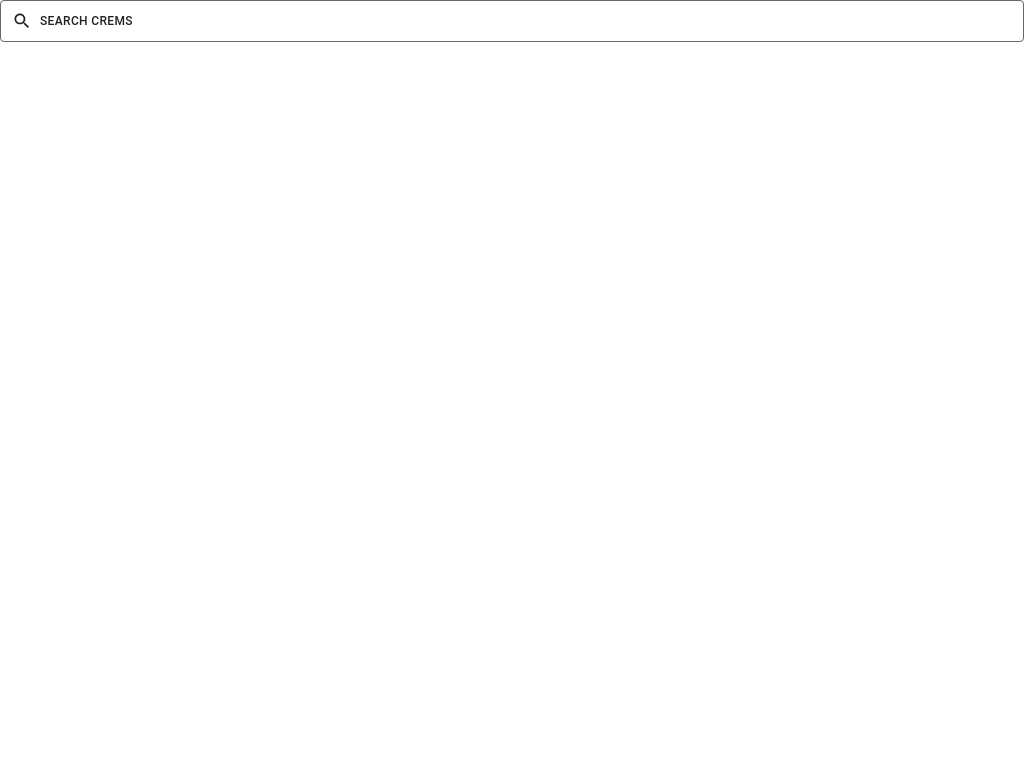
Scenario: shows permitted page shortcuts and hides administration shortcuts for rental officers
This screenshot has width=1024, height=768.
Click the button "Search CREMS".
click(86, 21)  # box left=0, top=0, right=1023, bottom=42
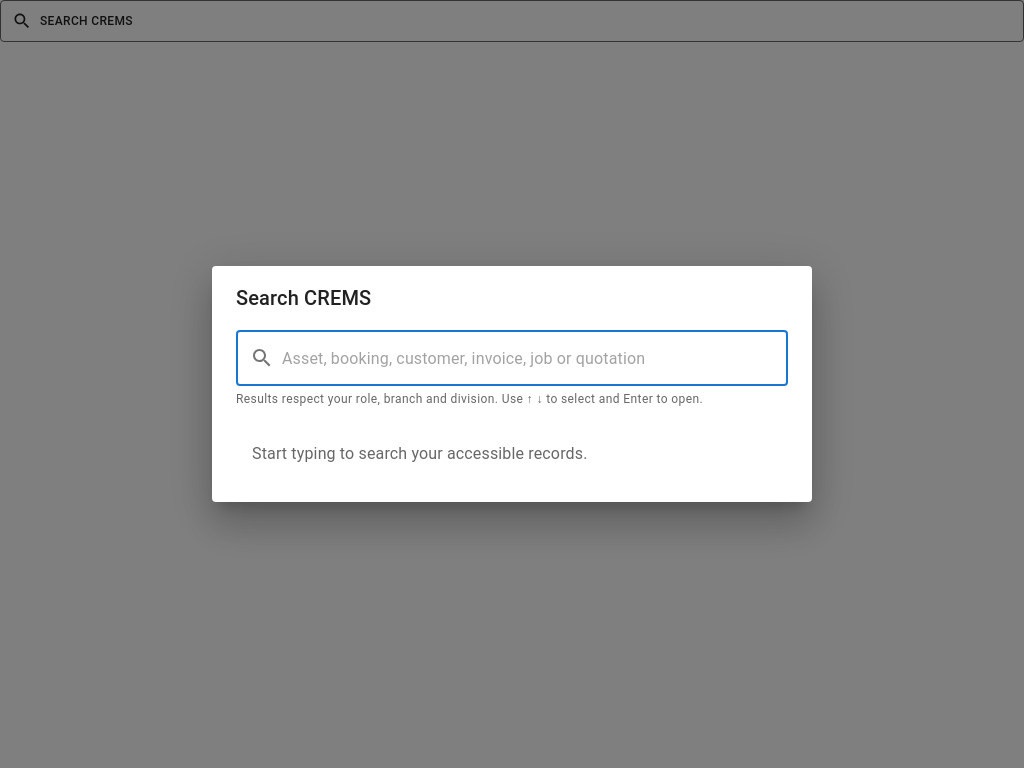
Type "Organization" into the dropdown named "Search CREMS records".
click(535, 358); type("Organization")  # box left=282, top=330, right=788, bottom=386
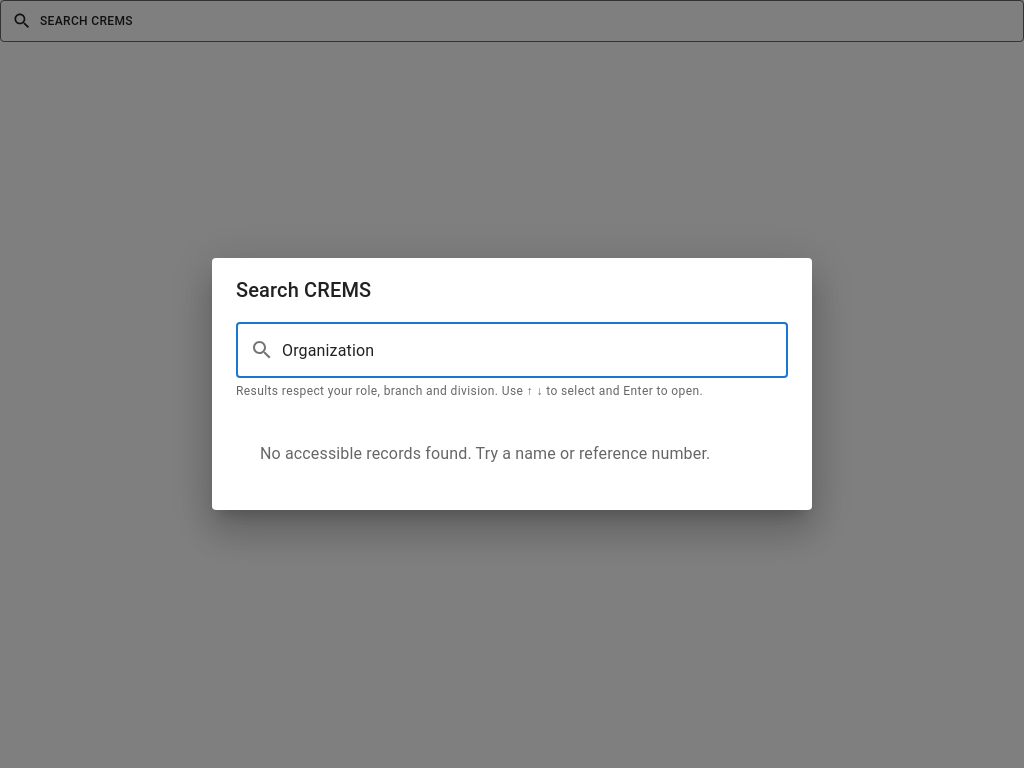
Expected: the text "No accessible records found. Try a name or reference number." is shown, left=260, top=444, right=710, bottom=463
Replace the text in the dropdown named "Search CREMS records" with "pickup" at (535,350), box left=282, top=322, right=788, bottom=378
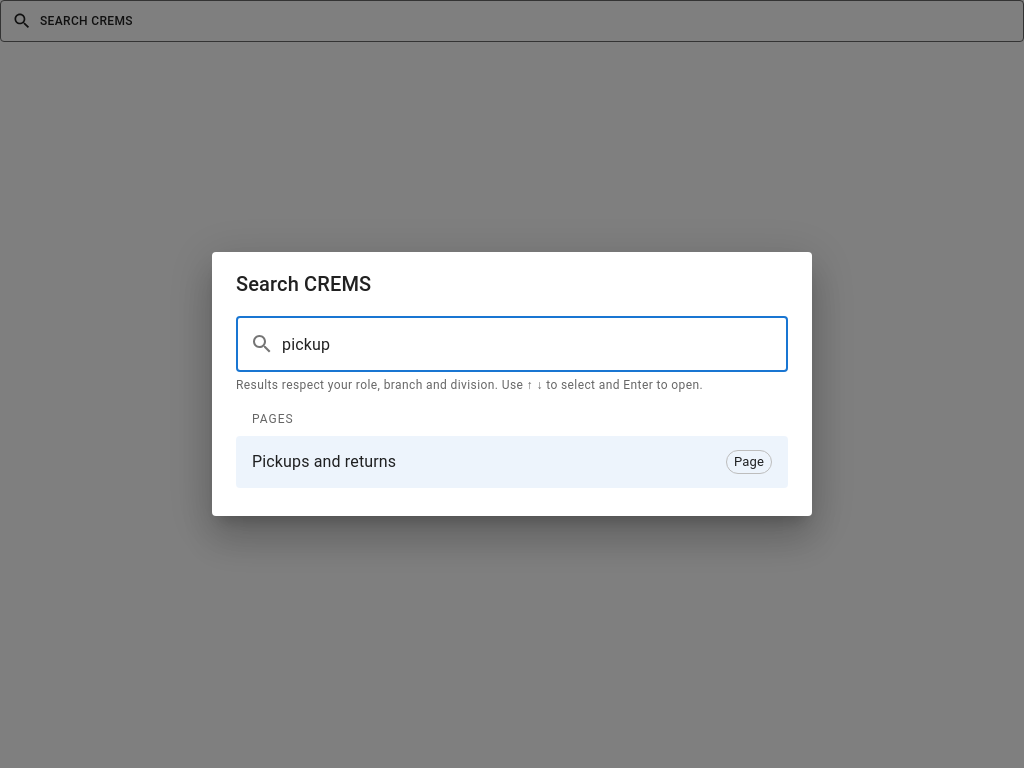
Expected: the text "Pickups and returns" is shown, left=252, top=452, right=396, bottom=471
